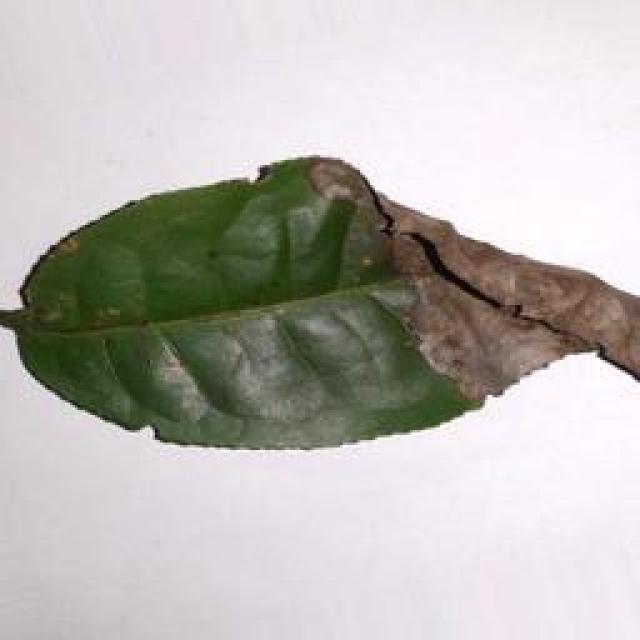Brown Blight: (0, 152, 638, 471)
